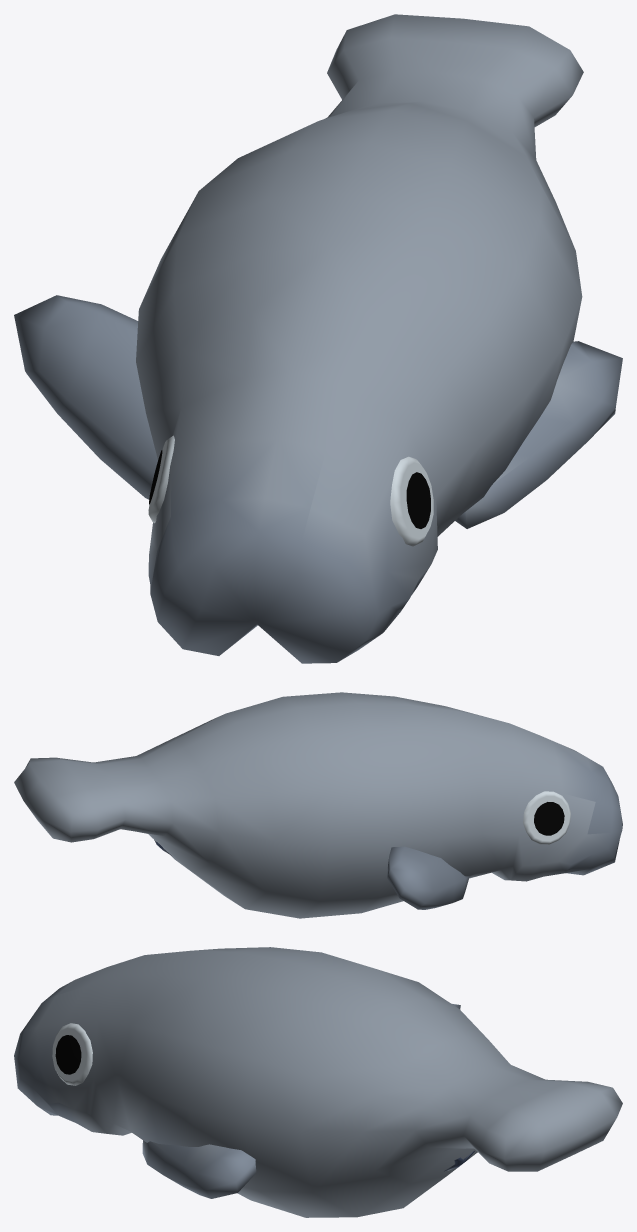
File: Manatee.glb
The picture shows the model from 3 angles, top to bottom: view 1: azimuth 30°, elevation 25°; view 2: azimuth 150°, elevation 25°; view 3: azimuth 270°, elevation 25°; orthographic projection. The views are drawn at different scales.
Parts seen in each view (by area): view 1: 98; view 2: 98; view 3: 98.
Part boxes in pixels (box(x1,y1,x2,y2)): 98: box(14, 14, 622, 663); 98: box(14, 692, 622, 918); 98: box(14, 947, 622, 1217).
Size of the model in its own units: 1.39 by 0.6165 by 1.48.
